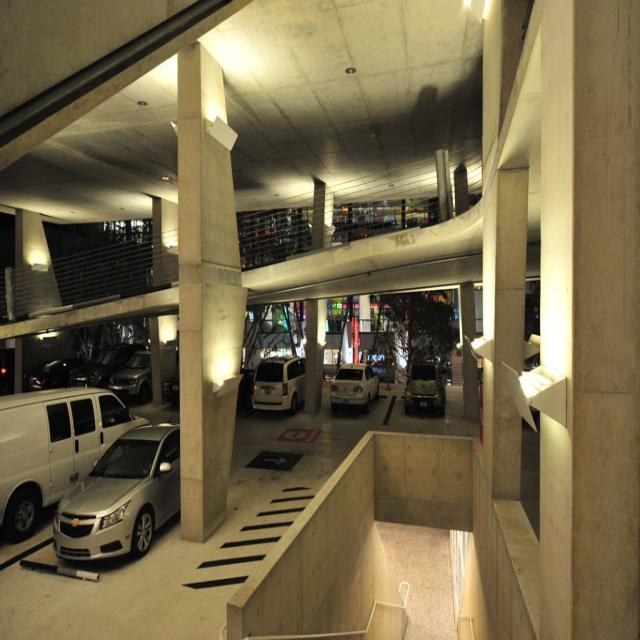car: (326, 360, 380, 414), (404, 358, 444, 414)
